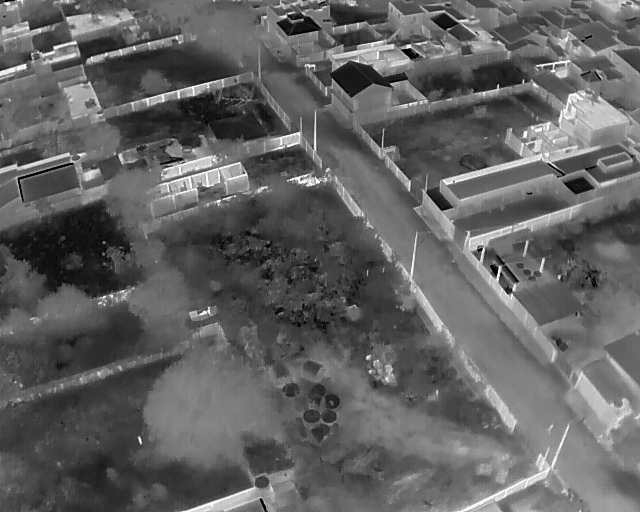car: (542, 332, 572, 348), (521, 182, 537, 198), (536, 177, 552, 193)
person: (595, 431, 606, 447), (544, 418, 555, 434), (604, 421, 615, 437)
